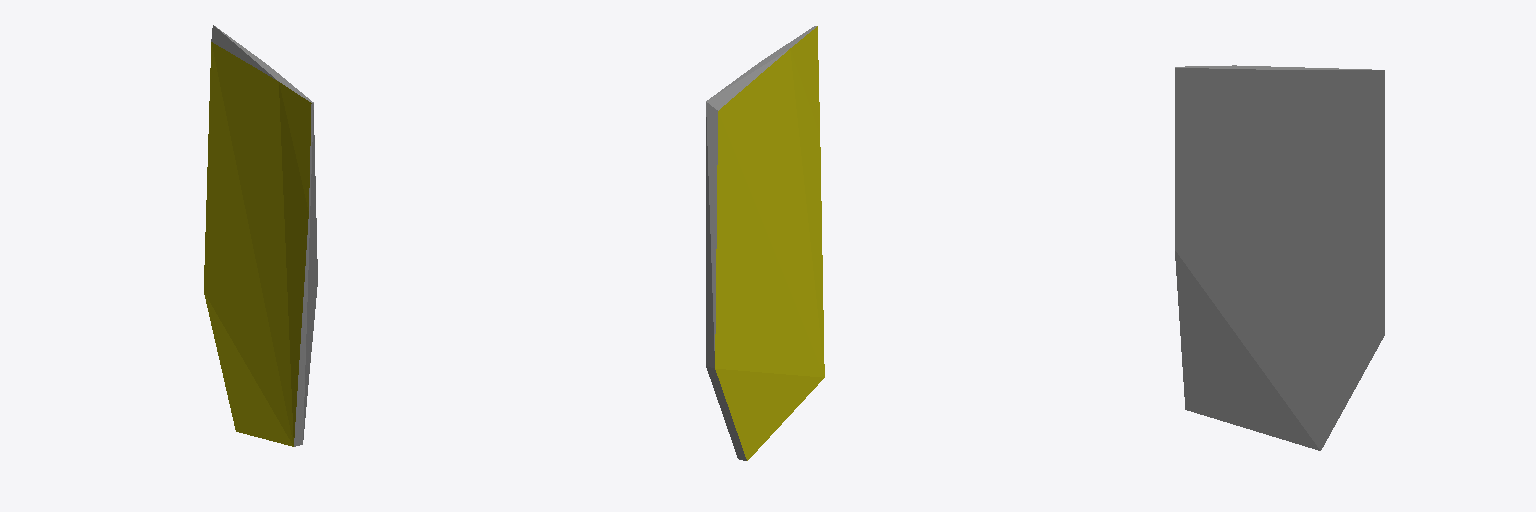
File: debris0.obj
The picture shows the model from 3 angles: view 1: azimuth 30°, elevation 25°; view 2: azimuth 150°, elevation 25°; view 3: azimuth 270°, elevation 25°; orthographic projection.
Parts seen in each view (by area): view 1: Cube; view 2: Cube; view 3: Cube.
Part boxes in pixels (x1,y1,x2,y2): Cube: (204, 25, 317, 446); Cube: (706, 26, 824, 460); Cube: (1175, 65, 1384, 450).
Size of the model in its own units: 0.0041 by 0.08 by 0.04.